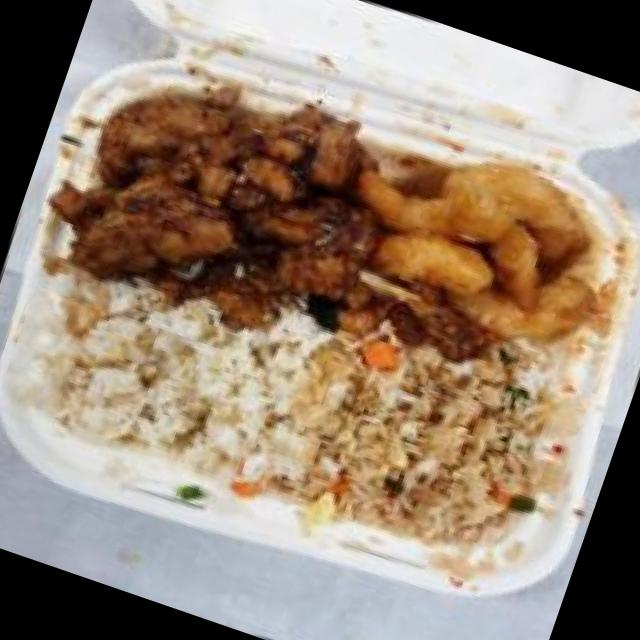Fried Rice: (256, 301, 579, 577)
Honey Walnut Shrimp: (309, 113, 640, 410)
The Original Orange Chicken: (16, 19, 427, 372)
White Steamed Rice: (3, 245, 342, 520)
